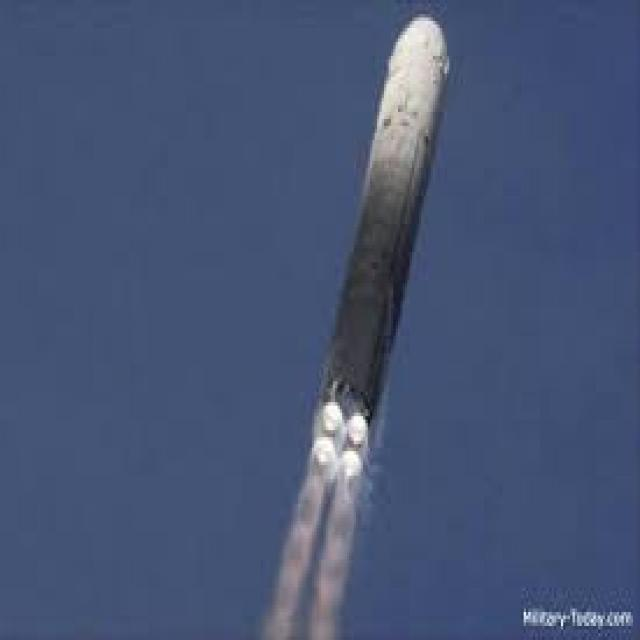missile: (279, 4, 459, 451)
